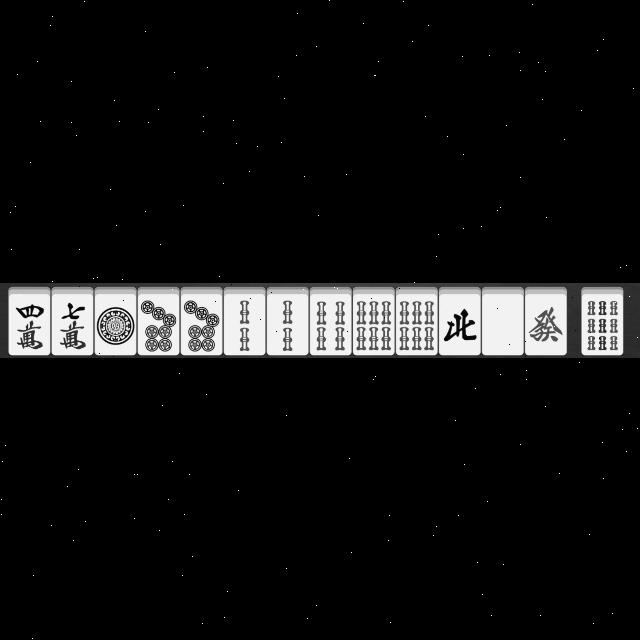1p: (94, 286, 136, 354)
2s: (224, 286, 266, 354), (268, 286, 308, 356)
4m: (8, 286, 50, 354)
4s: (310, 288, 352, 357)
6s: (353, 286, 395, 356), (395, 286, 437, 354)
7m: (51, 286, 93, 354)
7p: (180, 284, 223, 356), (137, 286, 179, 356)
9s: (582, 285, 622, 353)
haku: (481, 286, 525, 354)
hatsu: (524, 286, 568, 356)
pe: (438, 286, 479, 354)
